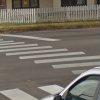Crosswalk: (5, 28, 81, 73)
